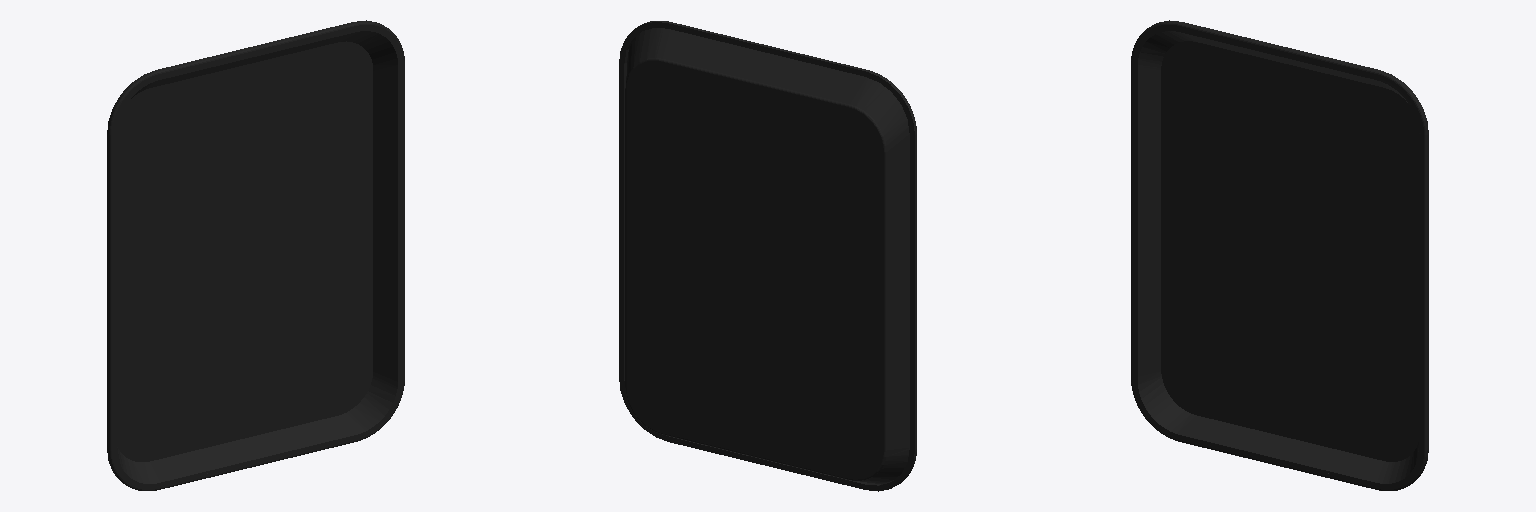
URDF robot description (Tray):
<?xml version="1.0" encoding="utf-8"?>
<!-- This URDF was automatically created by SolidWorks to URDF Exporter! Originally created by [author] ([email redacted]) 
     Commit Version: 1.6.0-4-g7f85cfe  Build Version: 1.6.7995.38578
     For more information, please see http://wiki.ros.org/sw_urdf_exporter -->
<robot
  name="Tray">
  <link
    name="base_link">
    <inertial>
      <origin
        xyz="0.16463 0.21426 0.29227"
        rpy="0 0 0" />
      <mass
        value="0.48026" />
      <inertia
        ixx="0.006337"
        ixy="-7.4182E-07"
        ixz="-1.0975E-06"
        iyy="0.003564"
        iyz="-6.8508E-06"
        izz="0.0098734" />
    </inertial>
    <visual>
      <origin
        xyz="0 0 0"
        rpy="0 0 0" />
      <geometry>
        <mesh
          filename="package://Tray/meshes/base_link.STL" />
      </geometry>
      <material
        name="plastic">
        <color
          rgba="0.18039 0.18039 0.18039 1" />
      </material>
    </visual>
    <collision>
      <origin
        xyz="0 0 0"
        rpy="0 0 0" />
      <geometry>
        <mesh
          filename="package://Tray/meshes/base_link.STL" />
      </geometry>
    </collision>
  </link>
</robot>

--- Render facts (derived) ---
3 views of the same robot in one strip: view 1: azimuth 30°, elevation 25°; view 2: azimuth 150°, elevation 25°; view 3: azimuth 330°, elevation 25° (orthographic).
Model Tray with 1 links and 0 joints (none), rooted at base_link, posed every joint at zero.
Links seen in each view (by area): view 1: base_link; view 2: base_link; view 3: base_link.
Link boxes in pixels (<box>): base_link: <box>107,20,404,490</box>; base_link: <box>619,21,916,491</box>; base_link: <box>1131,20,1428,490</box>.
Bounding box of the posed robot: 0.3 × 0.027 × 0.4056 m (x, y, z).
Meshes: 1 distinct files referenced, 1 mesh visuals loaded (1 binary STL).